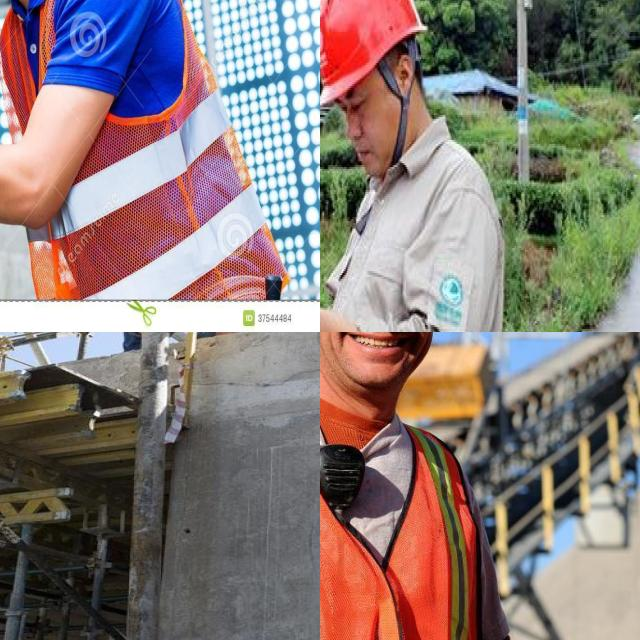No_Ear-Protection: (390, 46, 424, 103)
No_Glasses: (332, 76, 378, 123)
face_nomask: (320, 332, 429, 384), (347, 101, 397, 180)
head_helmet: (320, 0, 426, 106)
person: (0, 0, 282, 296), (320, 332, 527, 640)
vest: (19, 0, 268, 293), (320, 423, 489, 640)
